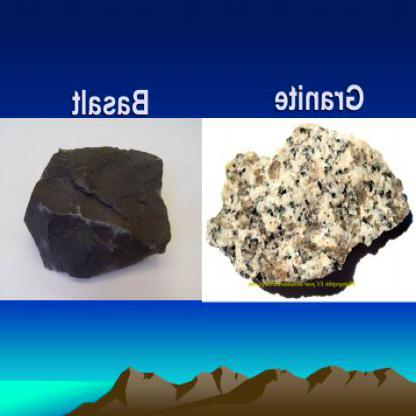Igneous_Basalt: (13, 132, 180, 283)
